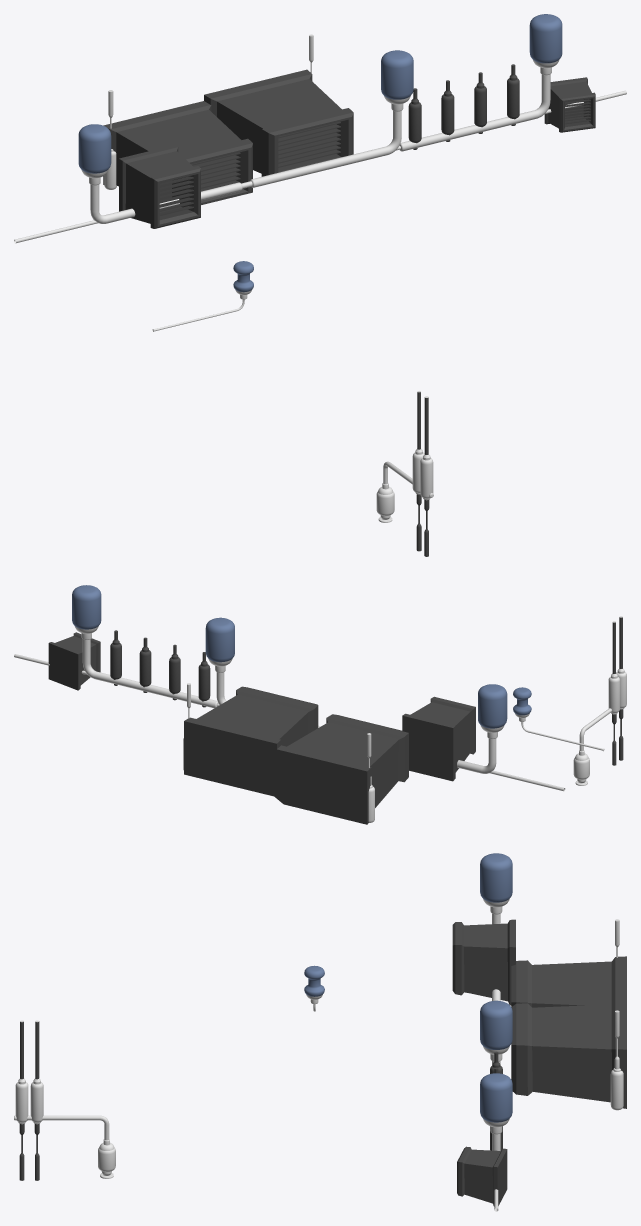
The model's file is Env_Left.fbx.
3 renders of one model, top to bottom at view 1: azimuth 30°, elevation 25°; view 2: azimuth 150°, elevation 25°; view 3: azimuth 270°, elevation 25°, orthographic. The views are drawn at different scales.
Visible parts, largest first — view 1: Cube.005, Cube.004, Cube, Cylinder.008, Cylinder.010, Cylinder.011, Cylinder.009, Cube.003, Cylinder.006, Cylinder.007, Cylinder.003; view 2: Cube.004, Cube.005, Cube, Cylinder.008, Cylinder.011, Cylinder.009, Cube.003, Cylinder.010, Cylinder.006, Cylinder.007, Cylinder.003, Cylinder.014; view 3: Cube.005, Cube.004, Cube, Cube.003, Cylinder.006, Cylinder.008, Cylinder.011, Cylinder.010, Cylinder.007, Cylinder.015, Cylinder.003.
Part boxes in pixels (x1=…): Cube.005: x1=204, y1=69, x2=353, y2=176; Cube.004: x1=103, y1=101, x2=252, y2=204; Cube: x1=119, y1=145, x2=200, y2=228; Cylinder.008: x1=399, y1=14, x2=626, y2=151; Cylinder.010: x1=250, y1=50, x2=413, y2=187; Cylinder.011: x1=14, y1=124, x2=252, y2=243; Cylinder.009: x1=408, y1=64, x2=519, y2=149; Cube.003: x1=544, y1=77, x2=595, y2=132; Cylinder.006: x1=412, y1=391, x2=433, y2=556; Cylinder.007: x1=376, y1=461, x2=433, y2=522; Cylinder.003: x1=152, y1=261, x2=253, y2=331; Cube.004: x1=274, y1=714, x2=408, y2=824; Cube.005: x1=184, y1=686, x2=318, y2=796; Cube: x1=402, y1=696, x2=475, y2=781; Cylinder.008: x1=14, y1=585, x2=218, y2=708; Cylinder.011: x1=457, y1=684, x2=565, y2=791; Cylinder.009: x1=110, y1=630, x2=210, y2=707; Cube.003: x1=48, y1=632, x2=100, y2=690; Cylinder.010: x1=205, y1=617, x2=320, y2=727; Cylinder.006: x1=608, y1=616, x2=626, y2=765; Cylinder.007: x1=573, y1=708, x2=611, y2=785; Cylinder.003: x1=513, y1=687, x2=604, y2=751; Cylinder.014: x1=367, y1=733, x2=374, y2=822; Cube.005: x1=511, y1=999, x2=626, y2=1108; Cube.004: x1=511, y1=956, x2=626, y2=1007; Cube: x1=452, y1=919, x2=515, y2=1005; Cube.003: x1=457, y1=1146, x2=507, y2=1206; Cylinder.006: x1=15, y1=1020, x2=43, y2=1180; Cylinder.008: x1=480, y1=1073, x2=512, y2=1211; Cylinder.011: x1=480, y1=853, x2=512, y2=1000; Cylinder.010: x1=480, y1=1000, x2=512, y2=1065; Cylinder.007: x1=14, y1=1115, x2=115, y2=1178; Cylinder.015: x1=610, y1=1010, x2=623, y2=1110; Cylinder.003: x1=304, y1=965, x2=324, y2=1011.
Size of the model in its own units: 1795 by 776 by 1561.
